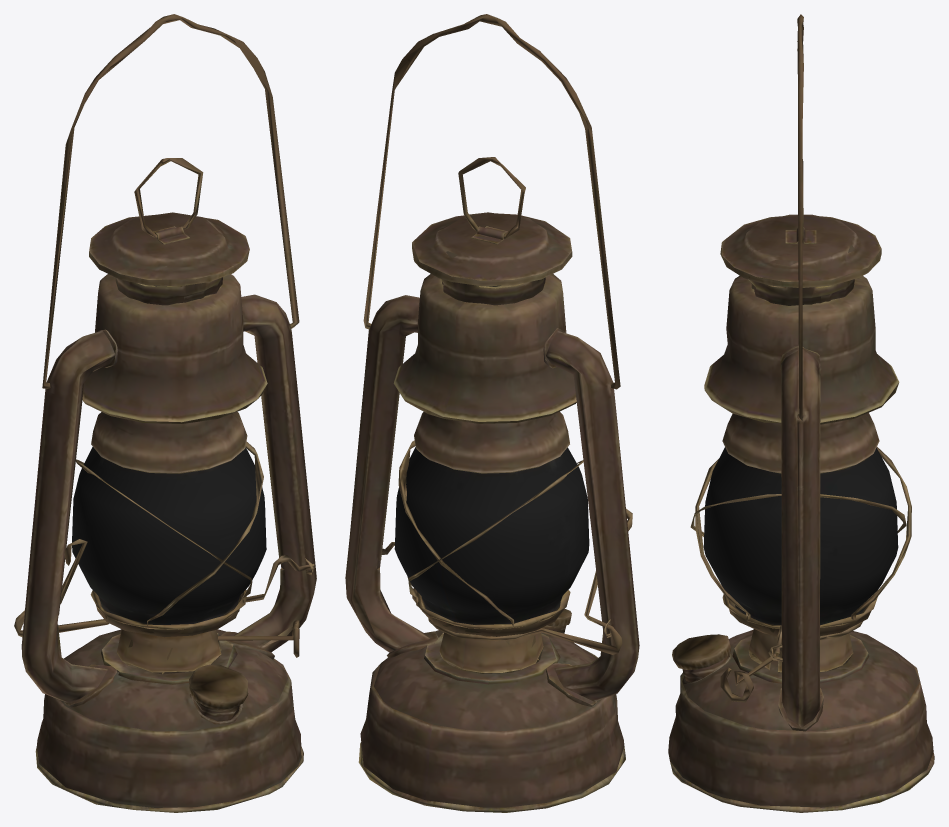
Rendered from Lantern_01_lod.phone.glb.
The picture shows the model from 3 angles, left to right: view 1: azimuth 30°, elevation 25°; view 2: azimuth 150°, elevation 25°; view 3: azimuth 270°, elevation 25°; orthographic projection.
Visible parts, largest first — view 1: Lantern_01, Lantern_01_glass; view 2: Lantern_01, Lantern_01_glass; view 3: Lantern_01, Lantern_01_glass.
Boxes of the visible parts, x1=… form: Lantern_01: x1=14, y1=14, x2=316, y2=812; Lantern_01_glass: x1=72, y1=447, x2=266, y2=624; Lantern_01: x1=345, y1=14, x2=639, y2=812; Lantern_01_glass: x1=394, y1=447, x2=589, y2=624; Lantern_01: x1=668, y1=14, x2=934, y2=812; Lantern_01_glass: x1=703, y1=447, x2=898, y2=625.
Bounding box in the file's own units: 0.1219 × 0.2939 × 0.096.
2 materials, 2 textured.
